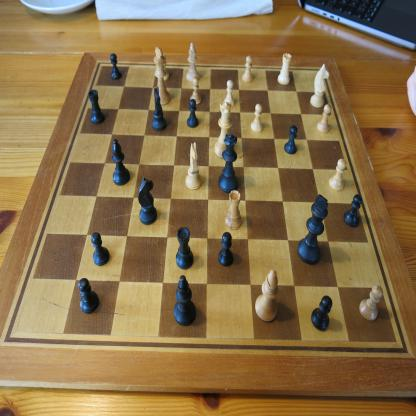black-bishop: (174, 275, 196, 326), (112, 138, 130, 186)
black-king: (298, 194, 328, 265)
black-knight: (138, 177, 157, 225), (151, 86, 166, 132)
black-pawn: (311, 294, 333, 332), (78, 277, 99, 313), (343, 193, 362, 229), (91, 232, 109, 266), (218, 232, 234, 268), (284, 125, 298, 155), (186, 98, 199, 129), (108, 52, 121, 80)
black-queen: (218, 133, 238, 194)
black-rook: (176, 226, 193, 270), (88, 89, 105, 124)
white-bishop: (255, 268, 278, 322), (186, 42, 200, 83)
white-king: (154, 46, 170, 106)
white-knight: (310, 63, 329, 108), (185, 142, 202, 191)
white-pawn: (359, 284, 384, 321), (328, 158, 346, 192), (316, 104, 332, 134), (251, 103, 263, 133), (157, 54, 170, 81), (242, 55, 254, 83), (190, 77, 202, 105), (224, 80, 235, 108)
white-queen: (214, 102, 233, 160)
white-rook: (224, 190, 242, 230), (277, 52, 292, 86)
